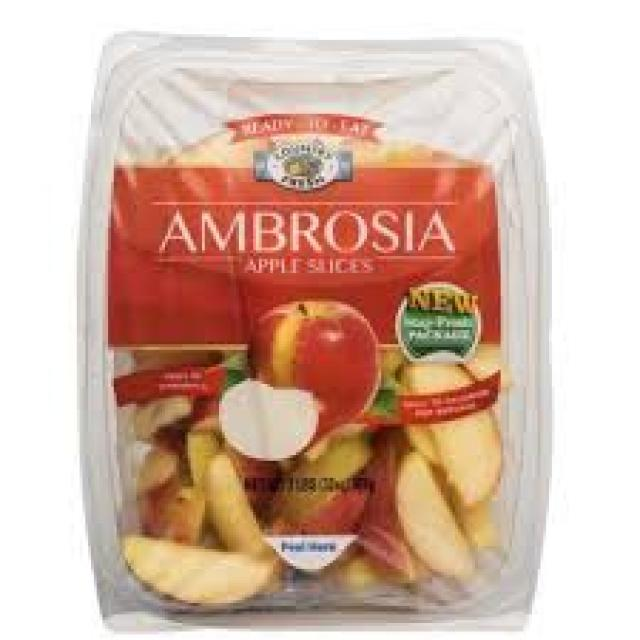Apple: (254, 301, 380, 428), (410, 361, 496, 511), (120, 529, 278, 609), (394, 451, 476, 579), (212, 381, 333, 461), (136, 446, 202, 538), (214, 454, 264, 556), (287, 477, 371, 531)
